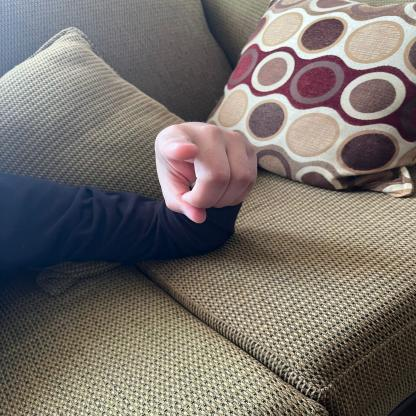X: (146, 118, 264, 224)
